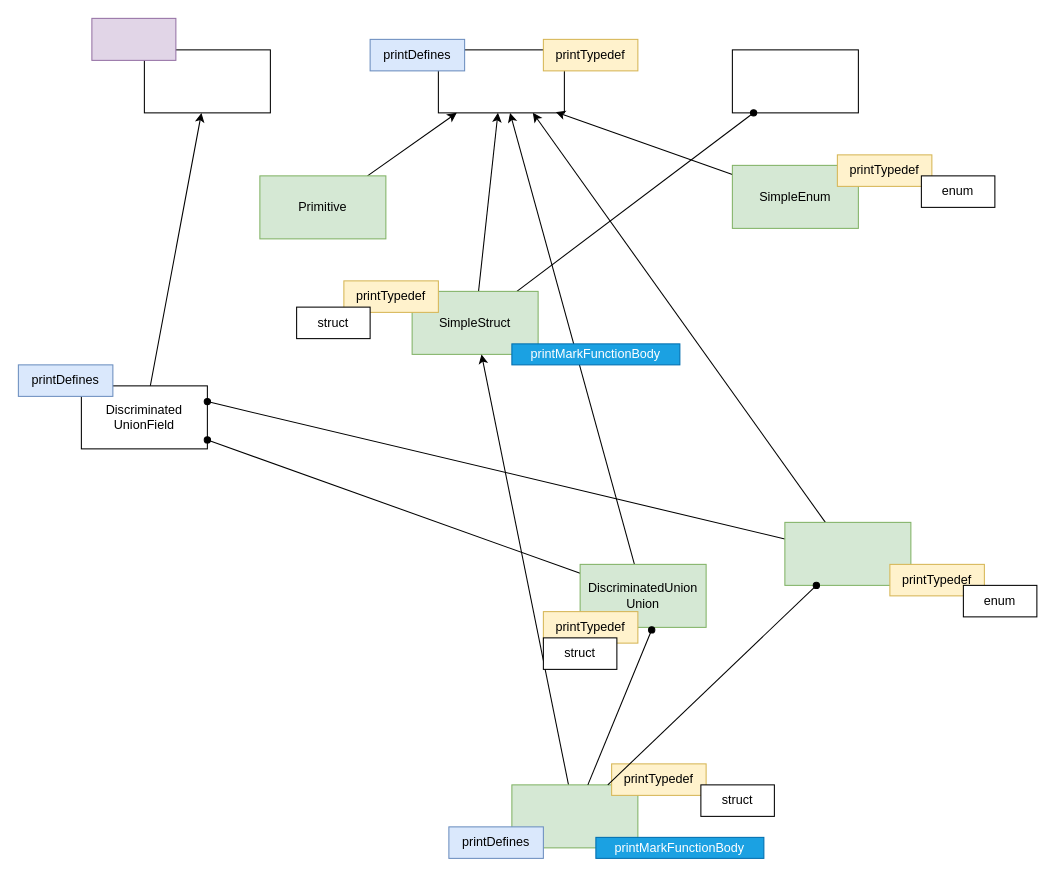
Image size: 1055x877. Some labels were removed from this diagram. The centre of each missing label's shape, as x and y in pixels:
"Base" belongs at point (500, 81).
"DiscriminatedUnion" belongs at point (574, 816).
"DiscriminatedUnion Enum" belongs at point (847, 553).
"EnumField" belongs at point (206, 81).
"printEnum TypedefLine" belongs at point (133, 38).
"SimpleField" belongs at point (794, 81).
